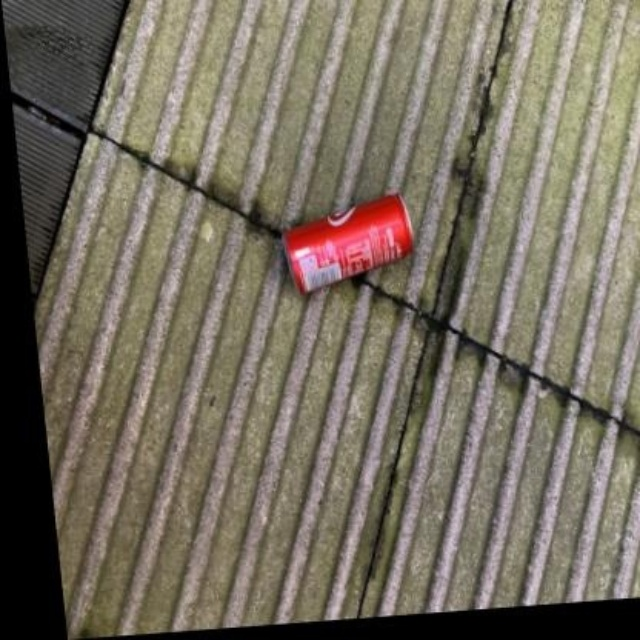trash: (283, 195, 411, 292)
